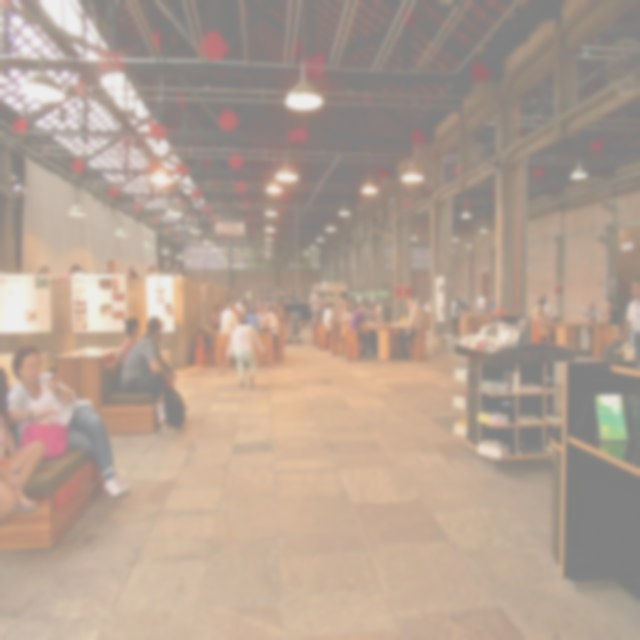pessoa: (6, 344, 131, 498), (118, 314, 188, 436), (0, 366, 46, 526), (118, 315, 176, 419), (603, 276, 639, 359), (226, 318, 266, 388), (398, 299, 425, 360), (32, 262, 52, 330), (349, 300, 369, 360), (582, 298, 602, 354), (144, 264, 162, 314), (600, 298, 624, 334), (260, 305, 280, 340), (364, 306, 378, 355), (322, 300, 340, 338), (57, 262, 99, 278), (220, 302, 240, 334), (221, 298, 242, 324), (268, 300, 282, 338), (487, 295, 499, 338), (310, 299, 326, 331), (452, 298, 464, 338), (532, 298, 550, 322), (246, 304, 261, 332), (196, 277, 230, 289), (371, 298, 384, 324), (238, 298, 260, 313), (210, 304, 223, 329), (538, 291, 550, 318), (254, 302, 266, 328), (423, 299, 433, 326), (540, 291, 550, 318), (338, 292, 348, 318), (234, 298, 246, 318), (477, 292, 487, 314), (102, 260, 116, 274), (126, 262, 138, 278), (383, 298, 391, 322), (347, 300, 358, 315), (288, 320, 296, 340), (416, 299, 422, 322), (176, 270, 189, 280), (460, 302, 468, 318), (452, 295, 456, 320), (276, 298, 283, 310), (412, 296, 419, 308), (125, 272, 134, 278), (104, 264, 108, 272)
